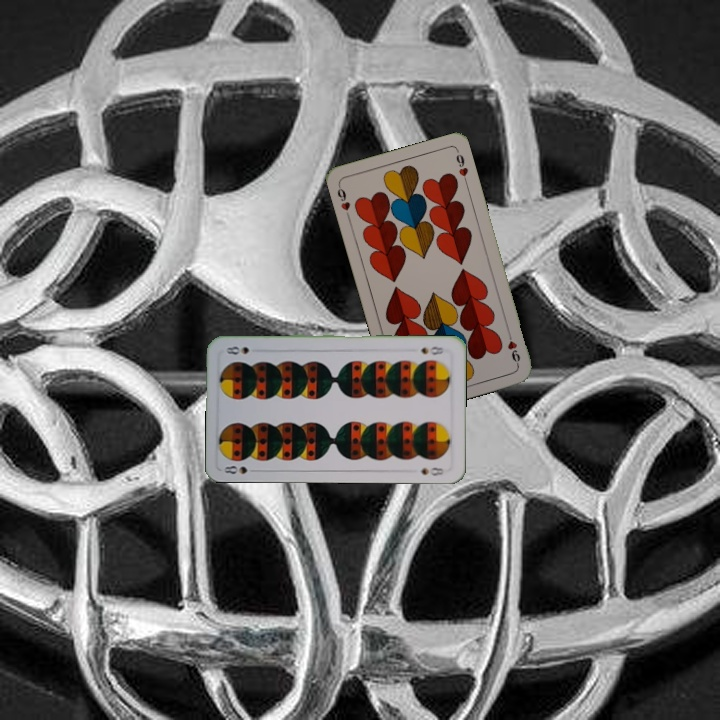H9: (503, 328, 523, 368), (333, 181, 353, 220)
S8: (220, 462, 261, 477), (417, 342, 447, 357)
